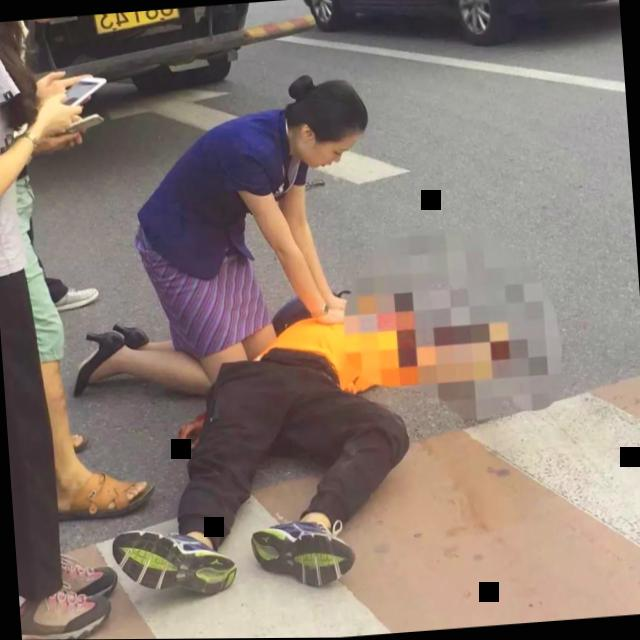Fall-Detected: (56, 227, 503, 621)
